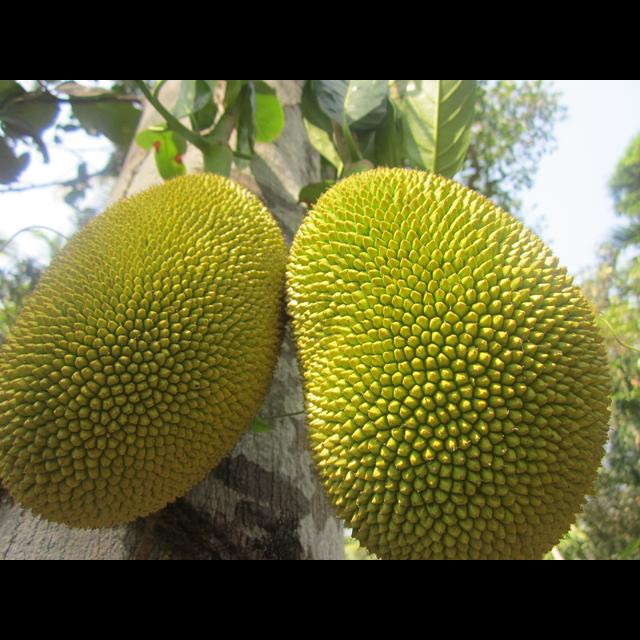mit: (284, 165, 614, 558), (4, 171, 286, 530)
